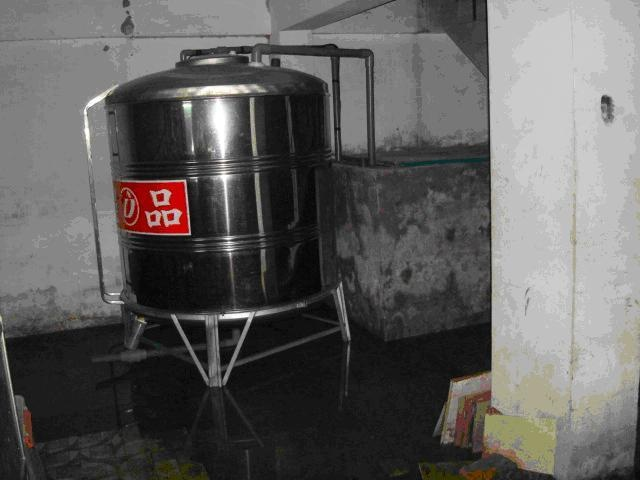water_tower: (103, 52, 352, 387)
